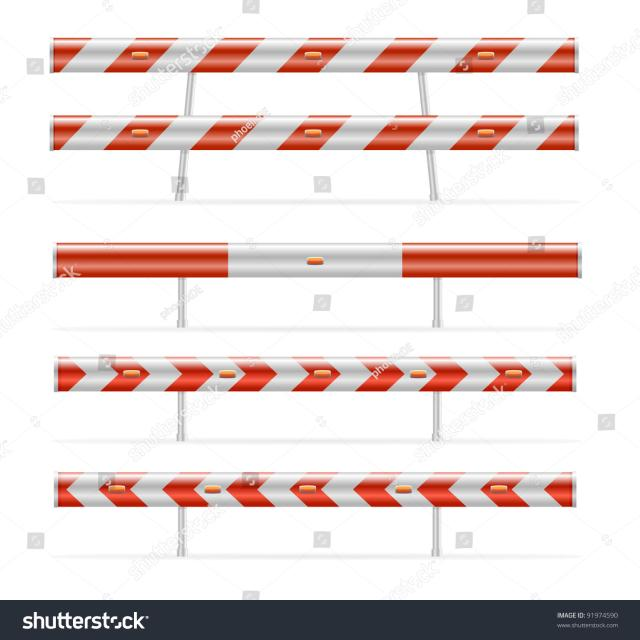cone: (37, 29, 591, 582)
